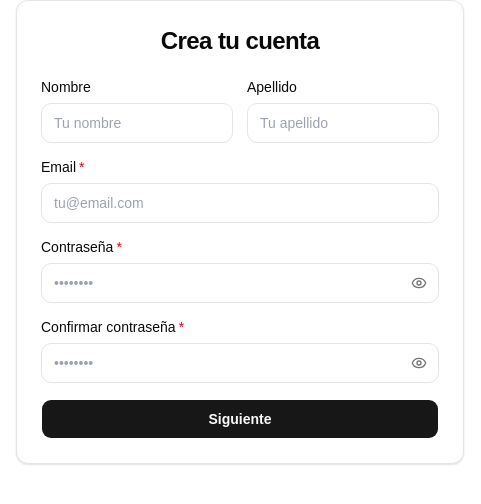
Test: a Standard Schema can veto the submit and point at a field
In the field labelled "Email*": (240, 203) [41, 183, 439, 223], type "ana@empresa.com"
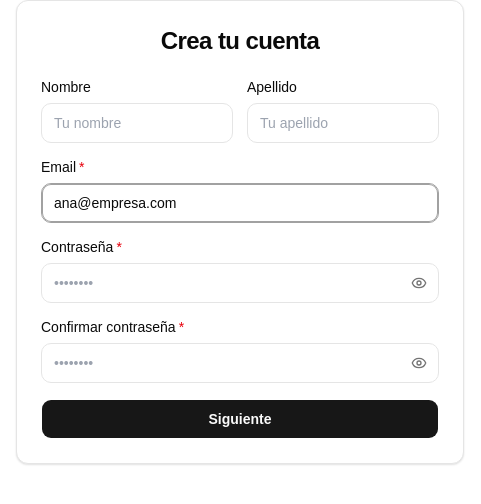
In the password field labelled "Contraseña*": (240, 283) [41, 263, 439, 303], type "Clave-123"
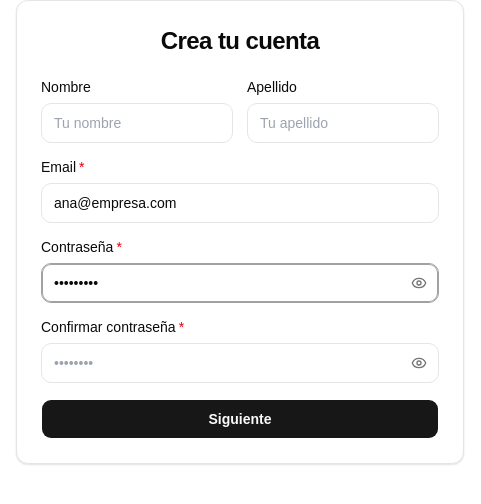
In the password field labelled "Confirmar contraseña*": (240, 363) [41, 343, 439, 383], type "Clave-123"
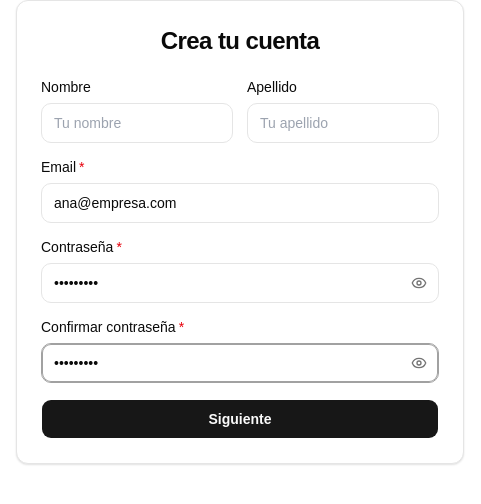
Click the button "Siguiente": (240, 419) [41, 399, 439, 439]
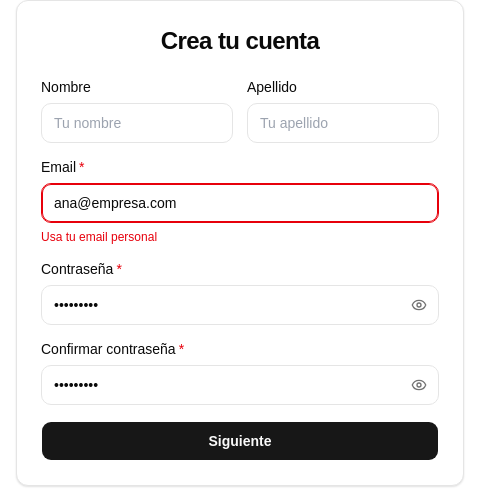
Check: the text "Usa tu email personal" is shown, box [41, 230, 157, 244]
